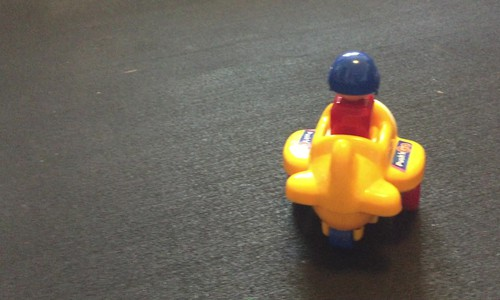toy: (282, 52, 437, 245)
